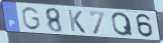6: (134, 13, 154, 39)
7: (89, 10, 108, 36)
8: (44, 7, 64, 33)
G: (20, 6, 42, 31)
K: (66, 9, 87, 35)
Q: (110, 12, 135, 37)
